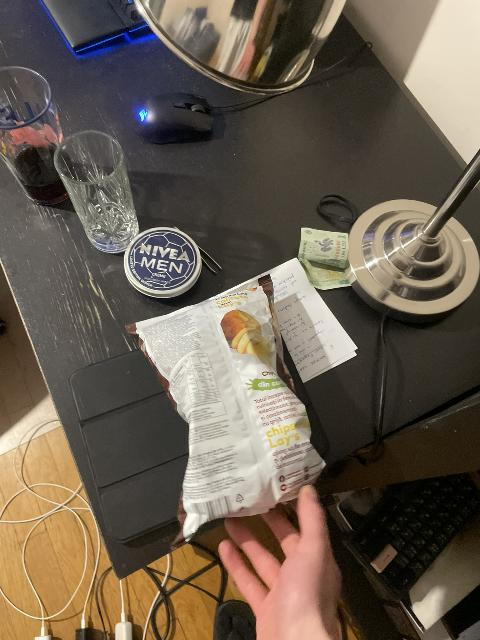Lays Beef Grilled Ribs 125g: (134, 272, 327, 542)
